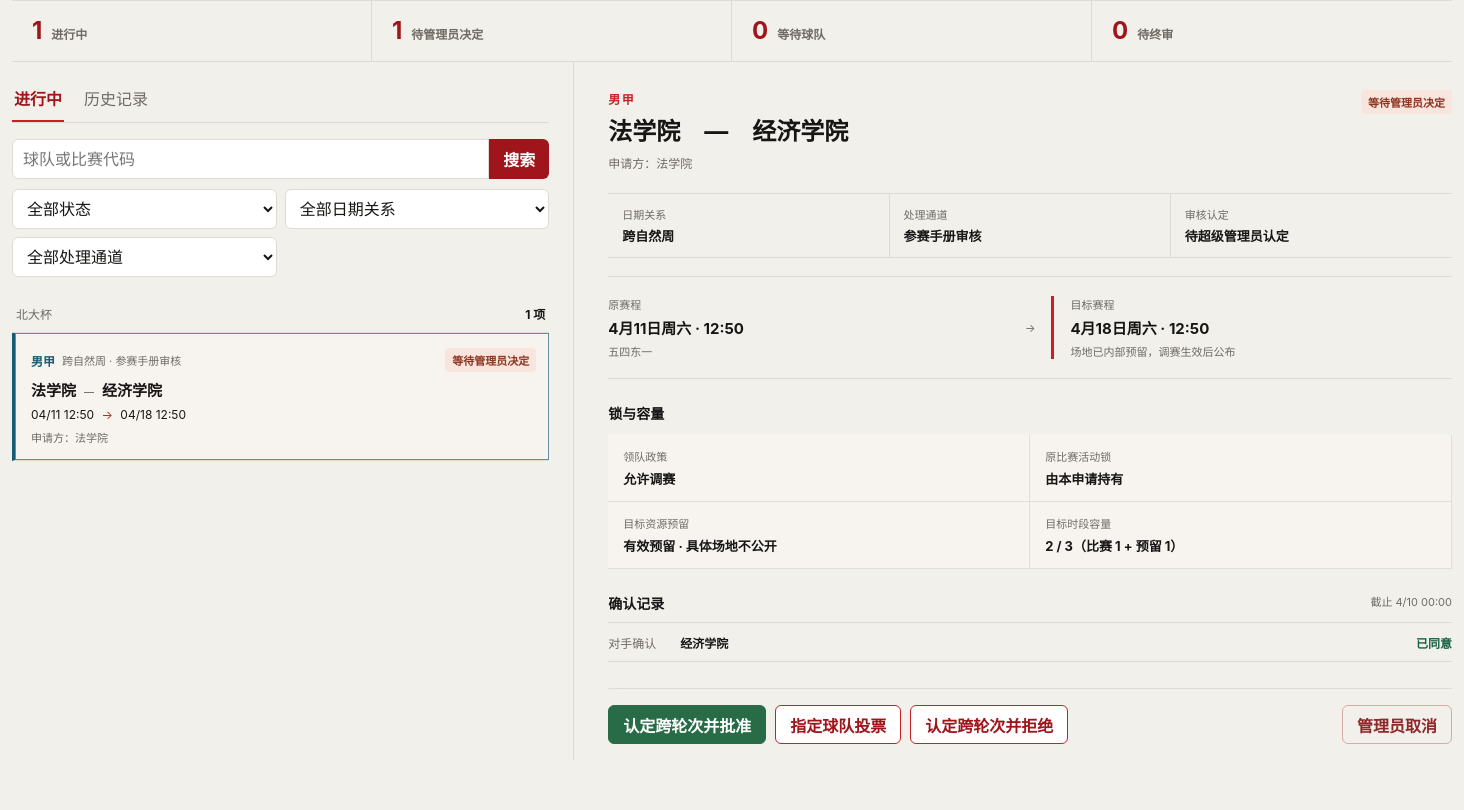
Test case: RescheduleManagementPage › does not refresh away a non-conflict action error
Click the button "认定跨轮次并批准": [687, 724] box [608,705,766,744]
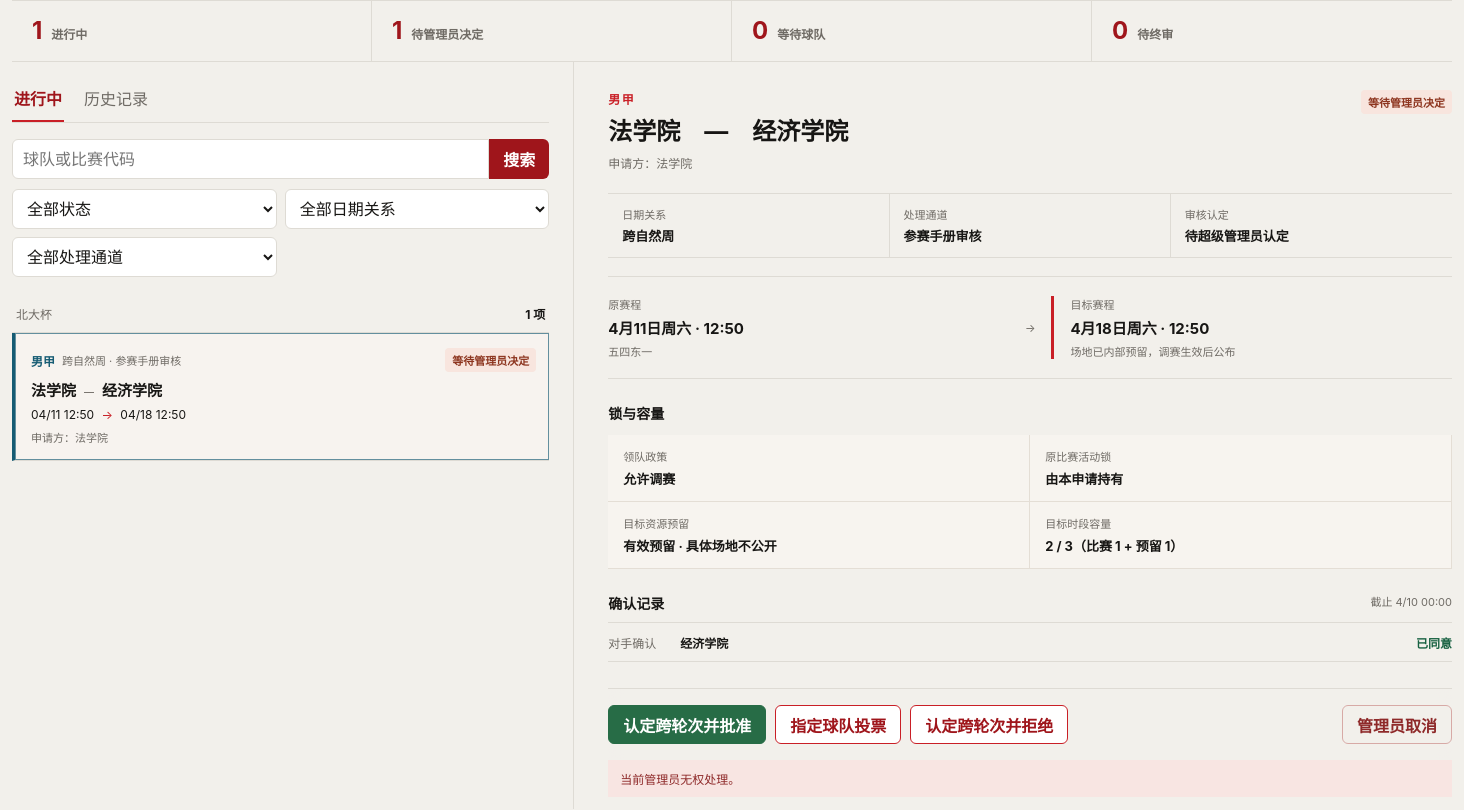
Result: the message reads "当前管理员无权处理。" at [620,772,740,787]
